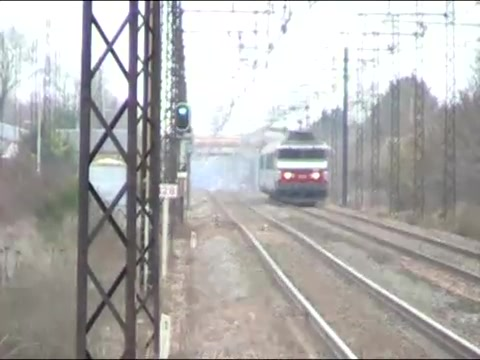train: (258, 129, 336, 206)
